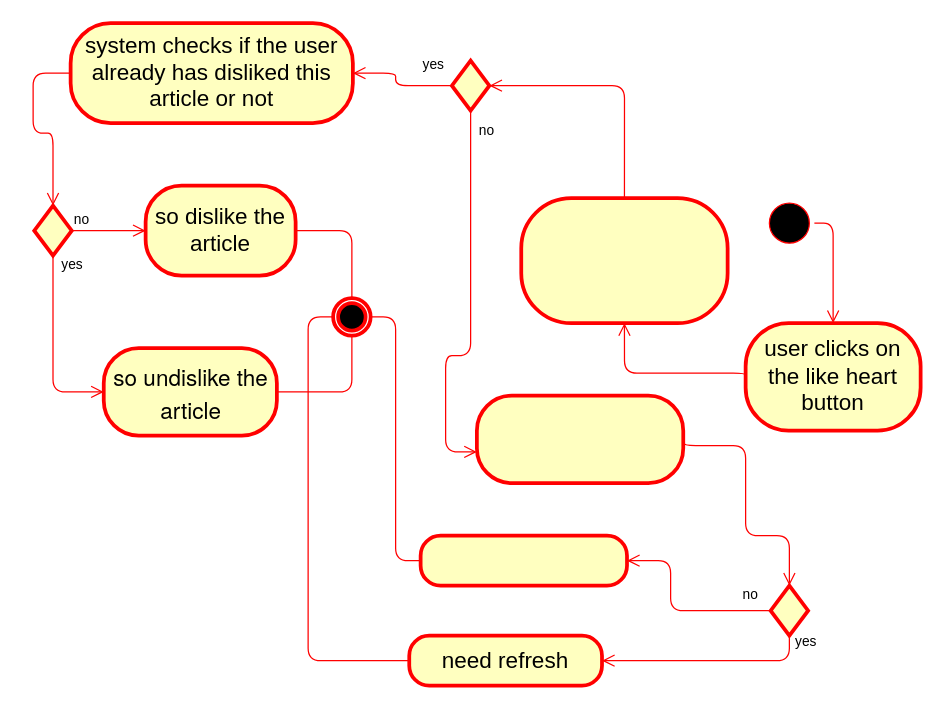
Some shapes in this 944 by 709 pixel diagram are drawn without their labels. The shapes that lost their labels are listed below. From the top down, each one's centre as x and y in pixels, then its label:
At (624,260): "checks if the credentials of user exists or are valid".
At (579,438): "check if the access token is expired".
At (523,560): "error message".
